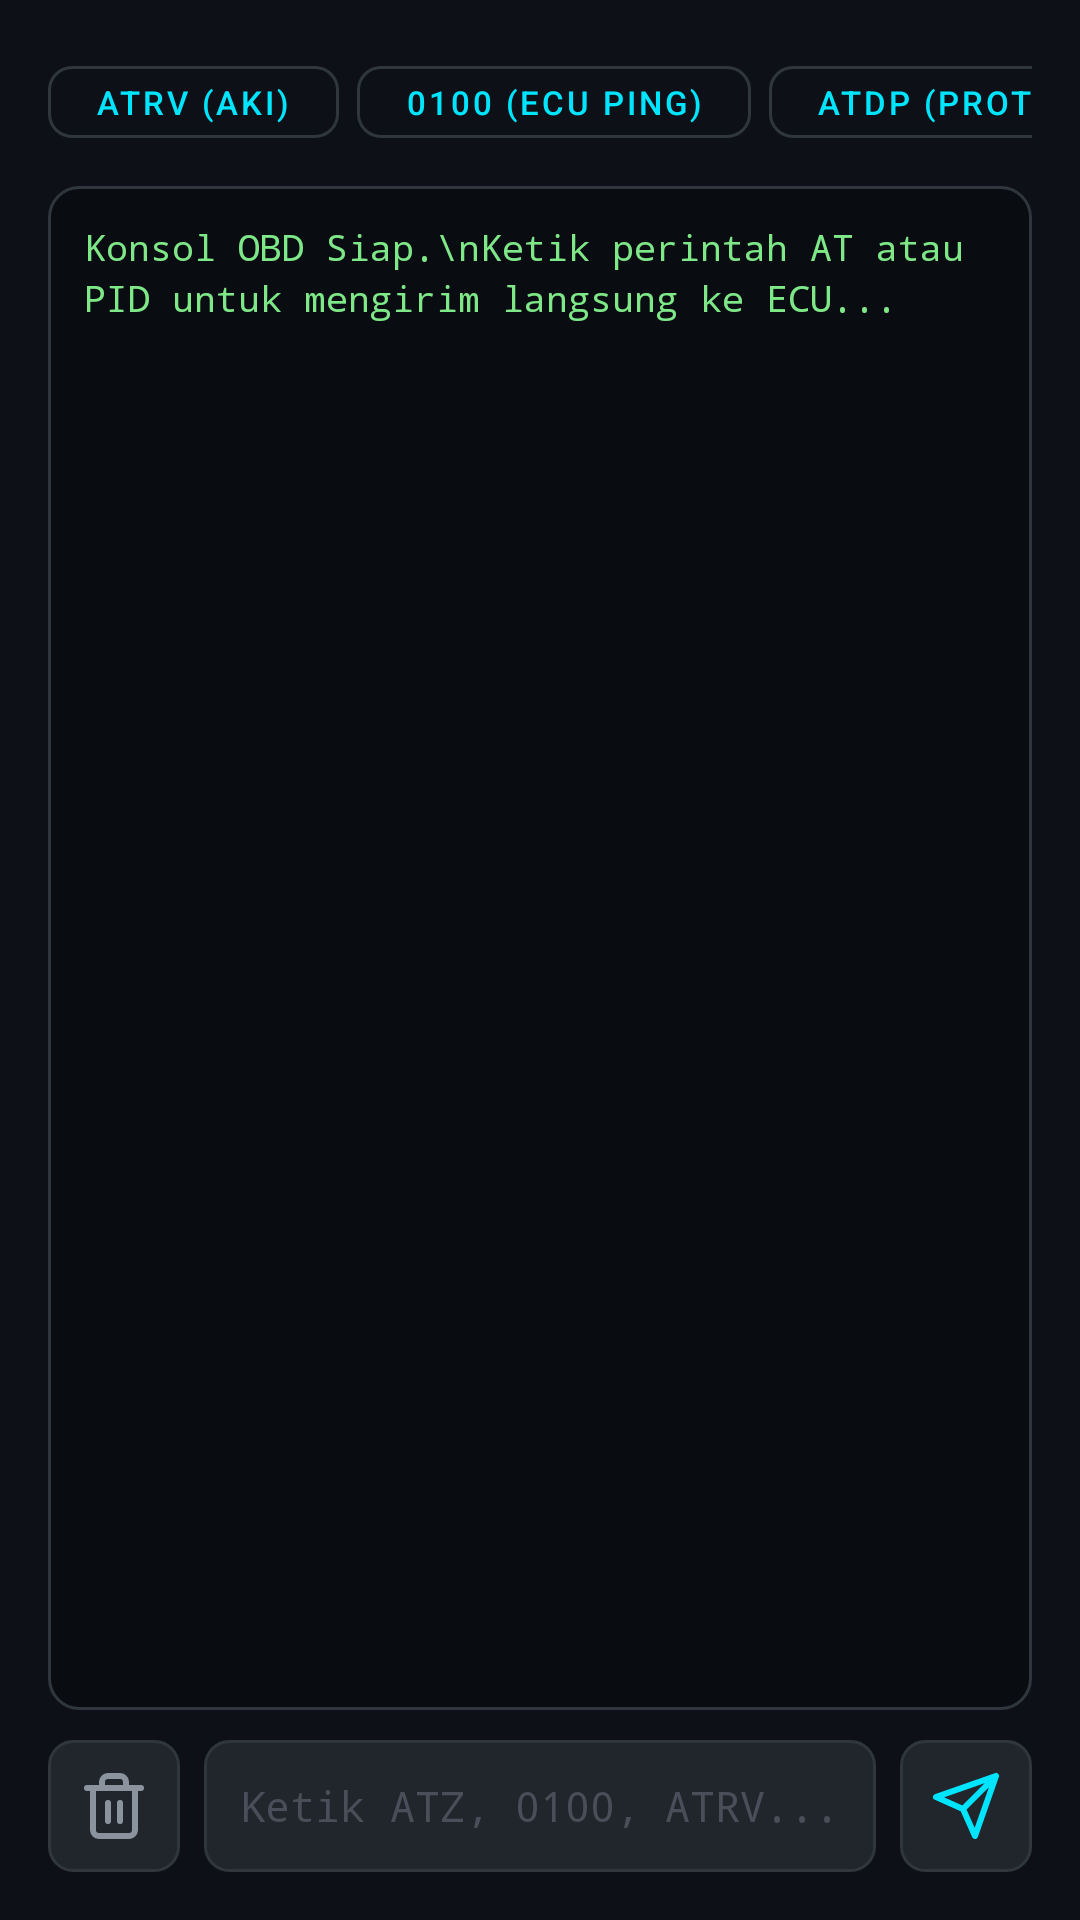

Screen size 1080*1920. Icon name, then its box in pixels as (x1, y1, x2, y2):
Clear: (48, 1740, 180, 1872)
Send: (900, 1740, 1032, 1872)
